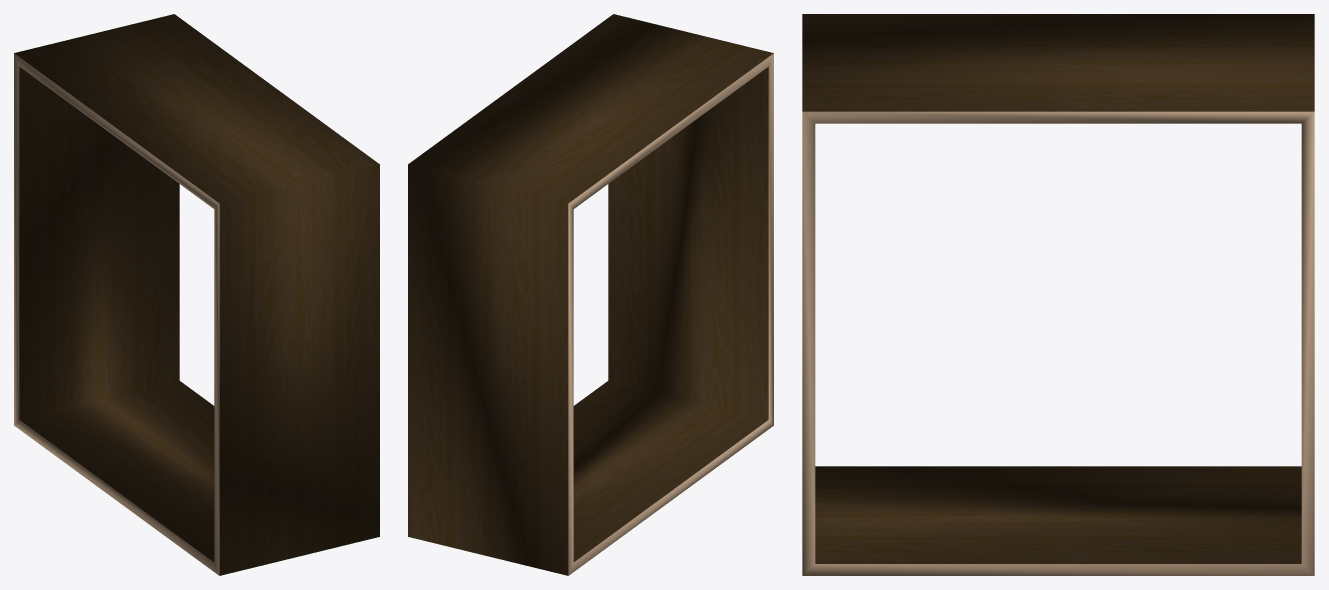
The model's file is WoodCubes.glb.
3 views of the same model, side by side, from view 1: azimuth 30°, elevation 25°; view 2: azimuth 150°, elevation 25°; view 3: azimuth 270°, elevation 25° (orthographic). The views are drawn at different scales.
Parts seen in each view (by area): view 1: Cube; view 2: Cube; view 3: Cube.
Part boxes in pixels (x1,y1,x2,y2): Cube: [14, 14, 379, 575]; Cube: [408, 14, 773, 575]; Cube: [802, 14, 1314, 575].
Bounding box in the file's own units: 1.03 × 2.28 × 2.28.
Materials: 2 (1 with a texture image).
